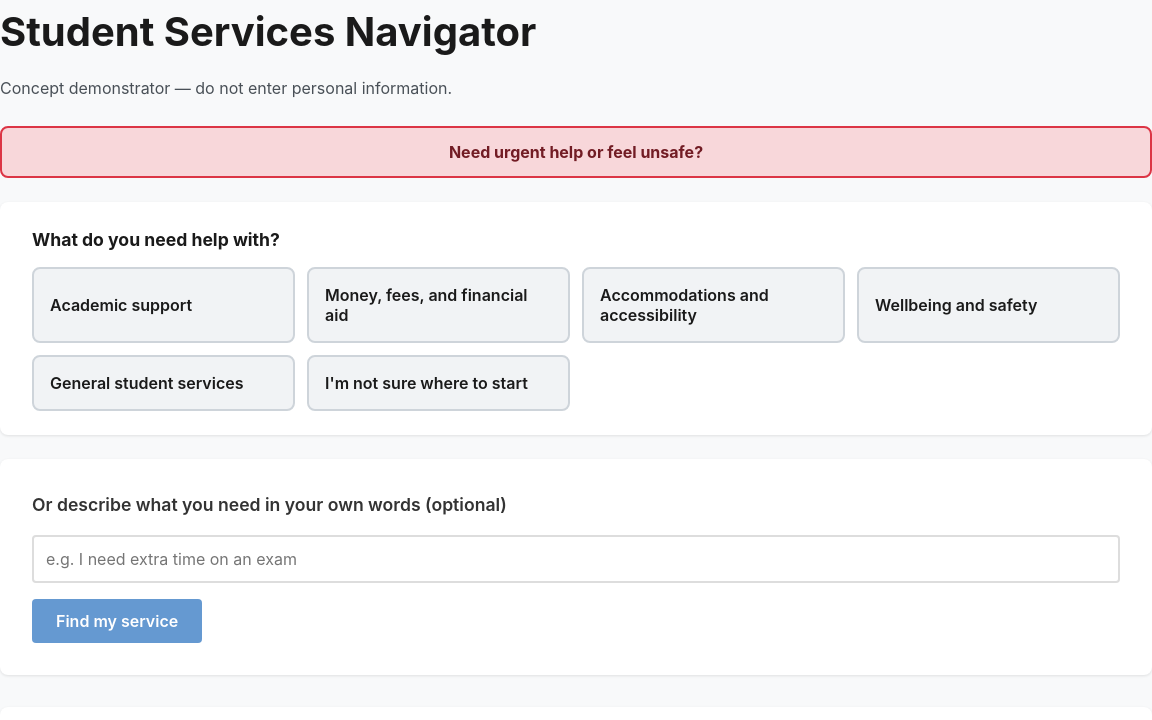
Test: Home page — resolution-first dual-entry UX › a fetch failure shows an honest error state, not a fabricated result
What coordinates should you click on to do the following:
click the button "Academic support"
I would click on:
 (164, 304)
Its box is [32,266,295,342].
(page scrolled)
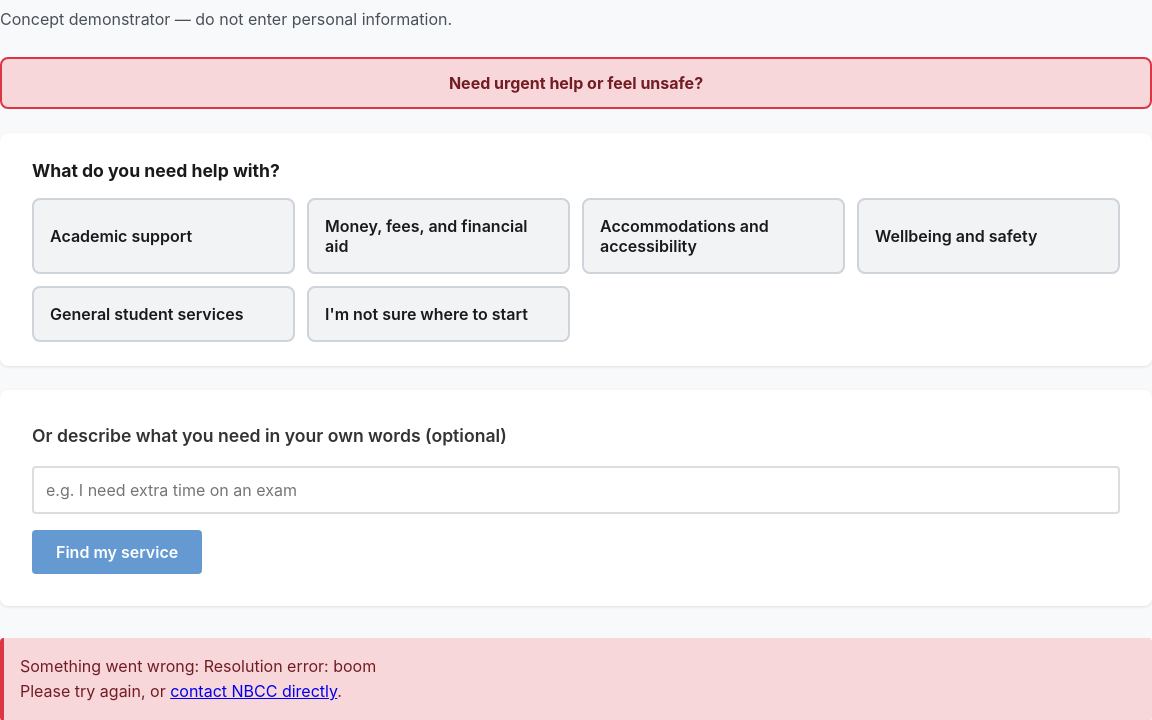
Now the message is shown, box [0,638,1151,719]
Now the text "Something went wrong: Resolution error: boom" is shown, box [20,656,376,676]
